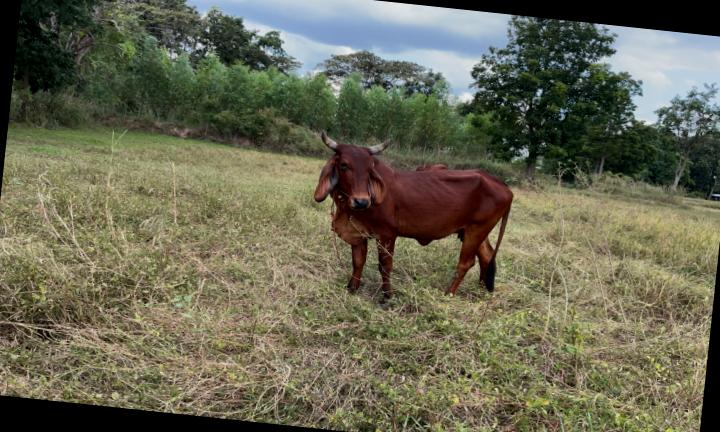Brahman: (315, 133, 513, 302)
